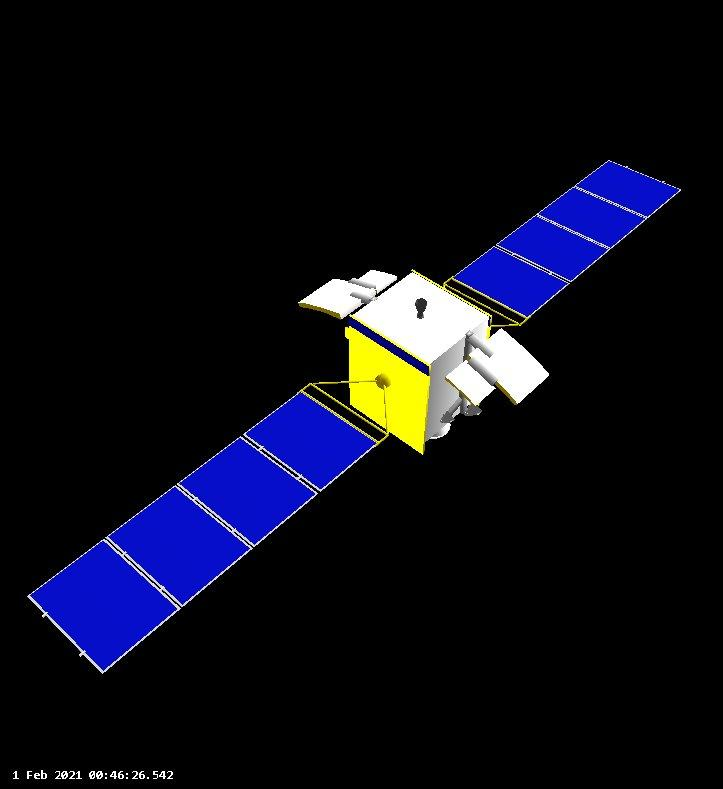antenna: (467, 328, 551, 406), (296, 278, 377, 319), (445, 359, 497, 406), (354, 268, 398, 295), (430, 419, 452, 439)
body: (341, 269, 495, 457)
solar: (28, 389, 380, 677), (452, 159, 682, 319)
thruster: (414, 297, 428, 321)
